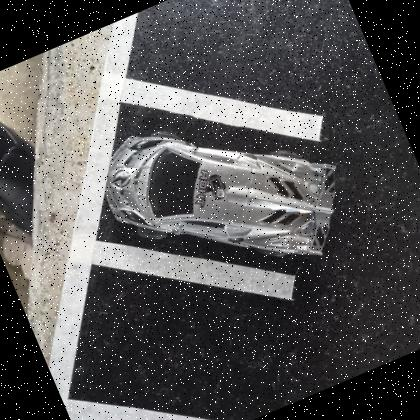Car: (104, 135, 336, 255)
